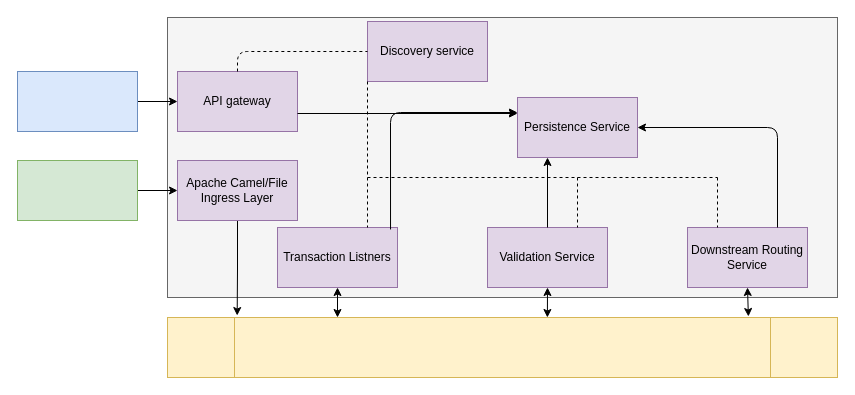
The diagram is 855 pixels wide and 395 high, and some of its shapes have lost their labels. The shapes that lost their labels are listed below. From the top down, each one's centre as x and y in pixels, then its label:
point 77,101: Cleint / END-to-END/GUI
point 77,190: FILES
point 502,347: Active MQ / Messaging System
